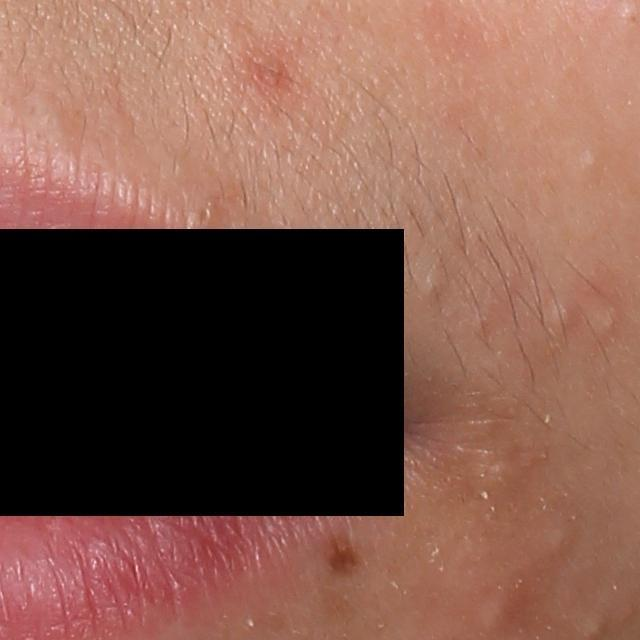comedo: (547, 295, 577, 338), (416, 268, 453, 299), (593, 304, 624, 336), (546, 525, 574, 558), (579, 150, 606, 175), (194, 202, 213, 228)
nevus: (323, 526, 364, 580)
